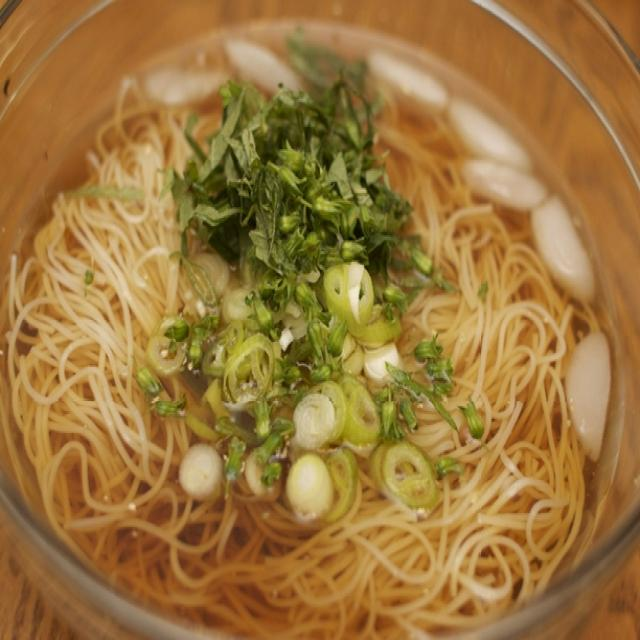面条主食: (5, 17, 614, 629)
